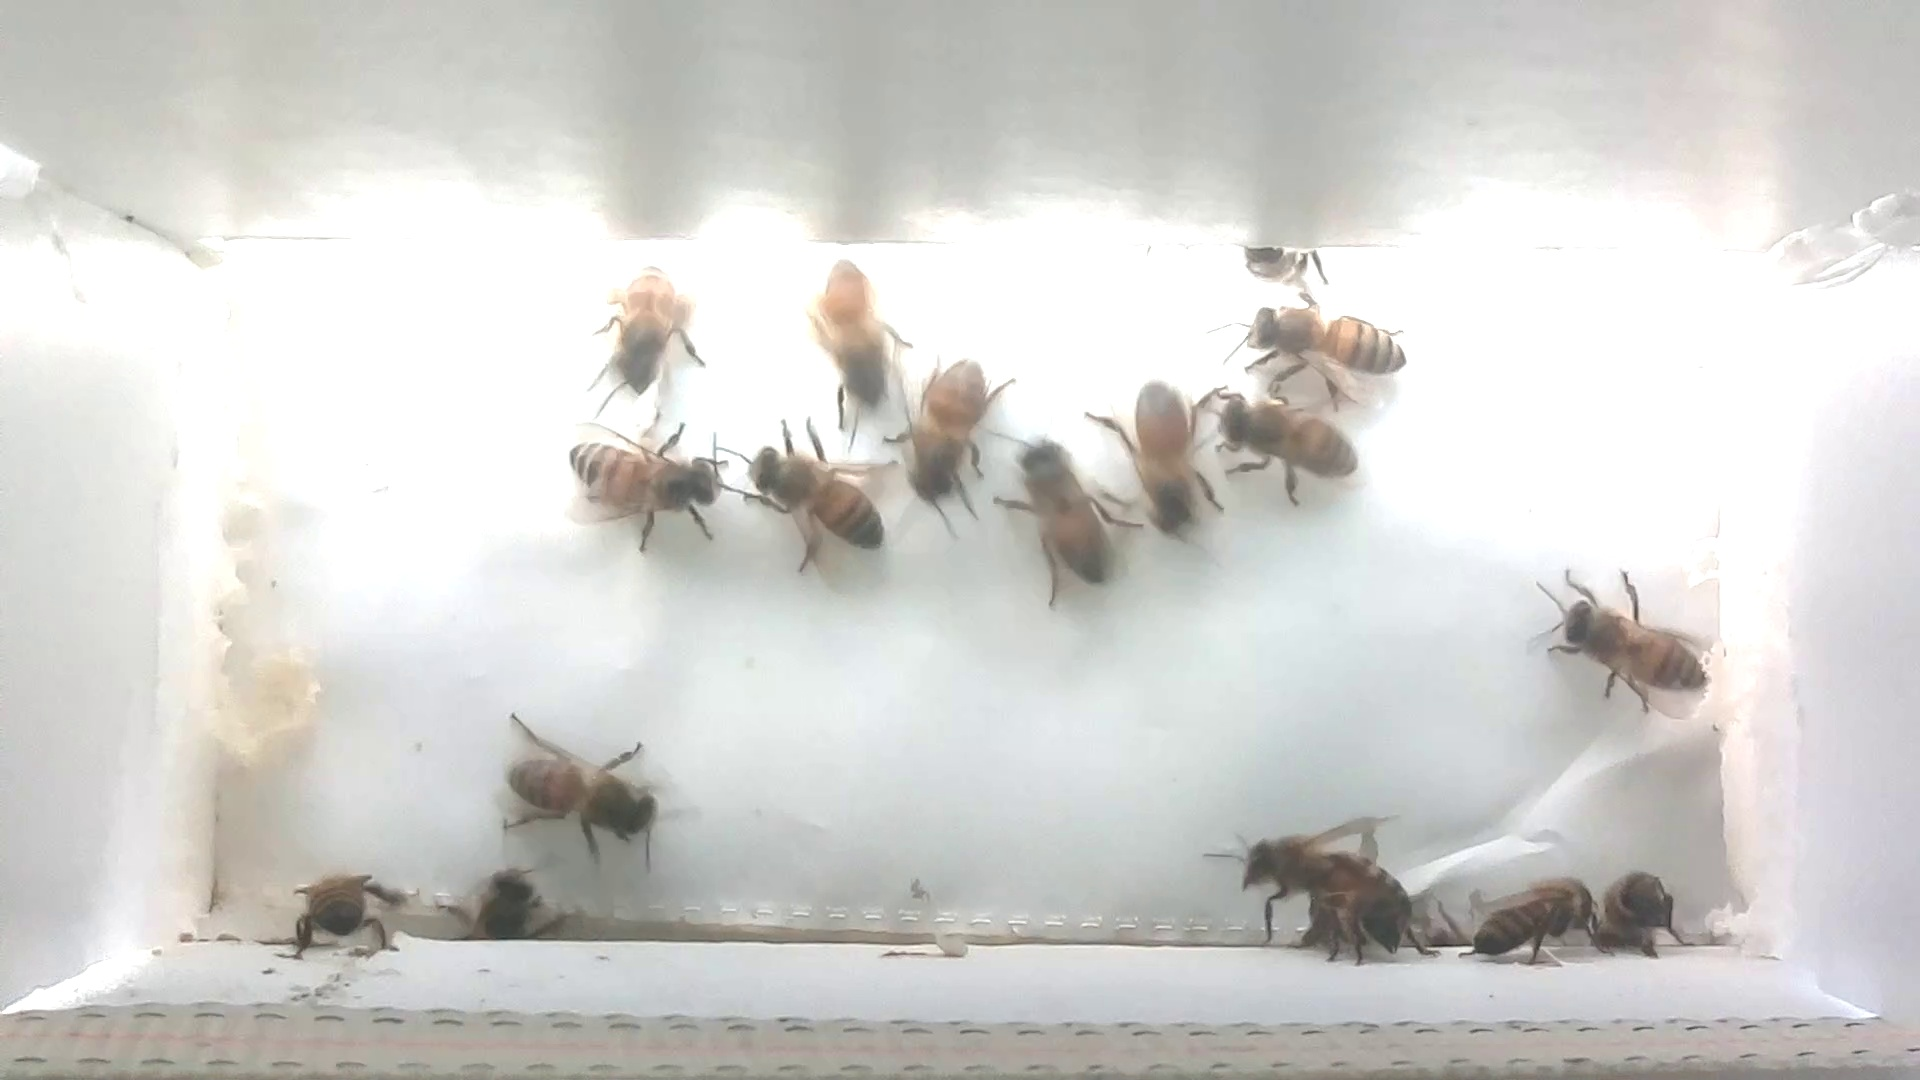bee: (1514, 549, 1729, 731), (477, 702, 679, 862), (1215, 284, 1441, 413), (727, 415, 894, 575), (992, 425, 1143, 600), (1209, 819, 1411, 945), (1091, 371, 1236, 541), (885, 345, 1009, 524), (560, 415, 725, 549), (578, 255, 720, 404), (791, 258, 920, 421), (1211, 388, 1385, 508), (1455, 858, 1605, 971), (431, 856, 585, 955), (272, 855, 406, 965), (1582, 855, 1700, 975), (1226, 231, 1341, 305)
